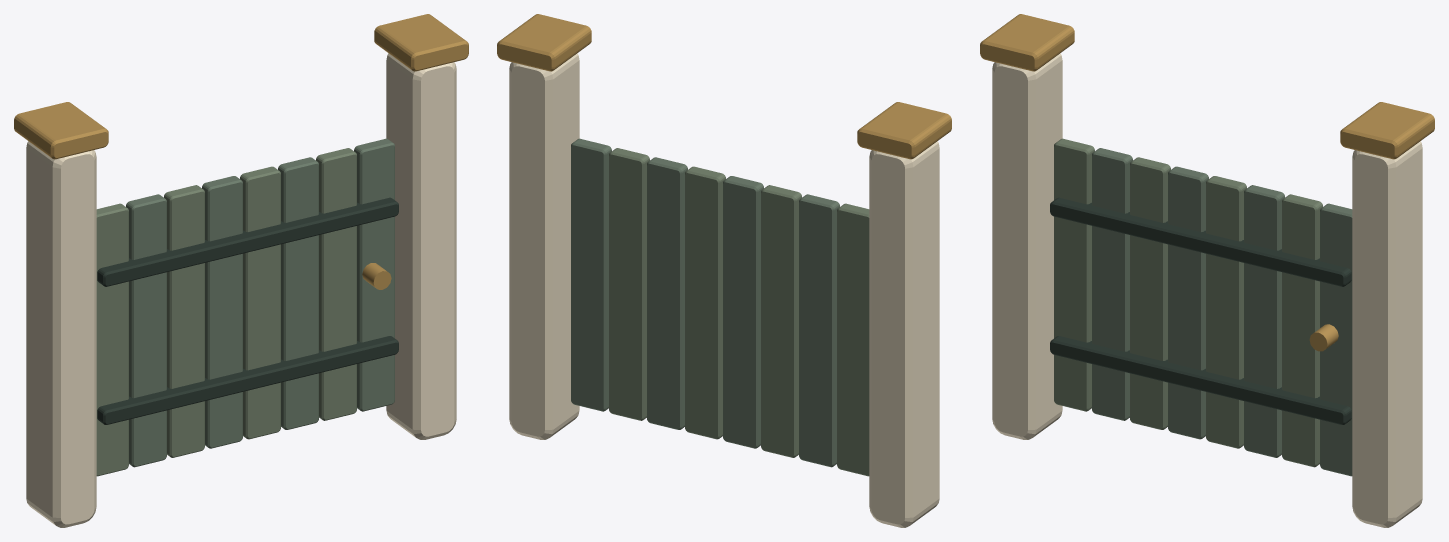
Rendered from gate.glb.
3 views of the same model, side by side, from view 1: azimuth 30°, elevation 25°; view 2: azimuth 150°, elevation 25°; view 3: azimuth 330°, elevation 25° (orthographic).
Visible parts, largest first — view 1: GatePlank (×8), StonePost (×2), IronBrace (×2), PostCap (×2), Latch; view 2: GatePlank (×8), StonePost (×2), PostCap (×2); view 3: GatePlank (×8), StonePost (×2), IronBrace (×2), PostCap (×2), Latch.
Part boxes in pixels (x1,y1,x2,y2): GatePlank (×8): [96, 138, 394, 476]; StonePost (×2): [26, 53, 456, 527]; IronBrace (×2): [97, 197, 398, 424]; PostCap (×2): [14, 14, 468, 159]; Latch: [362, 263, 391, 289]; GatePlank (×8): [571, 138, 869, 476]; StonePost (×2): [509, 53, 939, 527]; PostCap (×2): [497, 14, 951, 159]; GatePlank (×8): [1054, 138, 1352, 476]; StonePost (×2): [992, 53, 1422, 527]; IronBrace (×2): [1050, 197, 1351, 424]; PostCap (×2): [980, 14, 1434, 159]; Latch: [1309, 324, 1338, 351].
Size of the model in its own units: 2.09 by 1.88 by 0.34.
